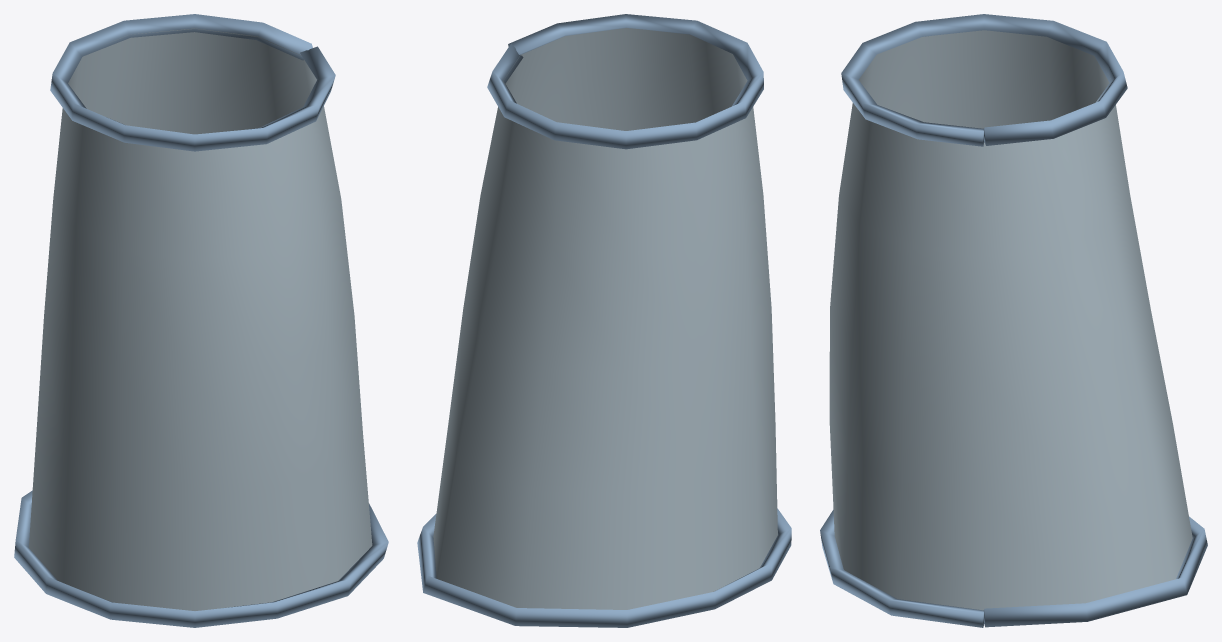
Rendered from platinum_armor_cuisse.L.glb.
The picture shows the model from 3 angles, left to right: view 1: azimuth 30°, elevation 25°; view 2: azimuth 150°, elevation 25°; view 3: azimuth 270°, elevation 25°; orthographic projection. The views are drawn at different scales.
Visible parts, largest first — view 1: platinum_armor_cuisse.L; view 2: platinum_armor_cuisse.L; view 3: platinum_armor_cuisse.L.
Boxes of the visible parts, left/top/right/bottom form: platinum_armor_cuisse.L: left=14, top=14, right=388, bottom=627; platinum_armor_cuisse.L: left=417, top=14, right=791, bottom=627; platinum_armor_cuisse.L: left=820, top=14, right=1207, bottom=627.
Size of the model in its own units: 0.2667 by 0.3856 by 0.2845.
